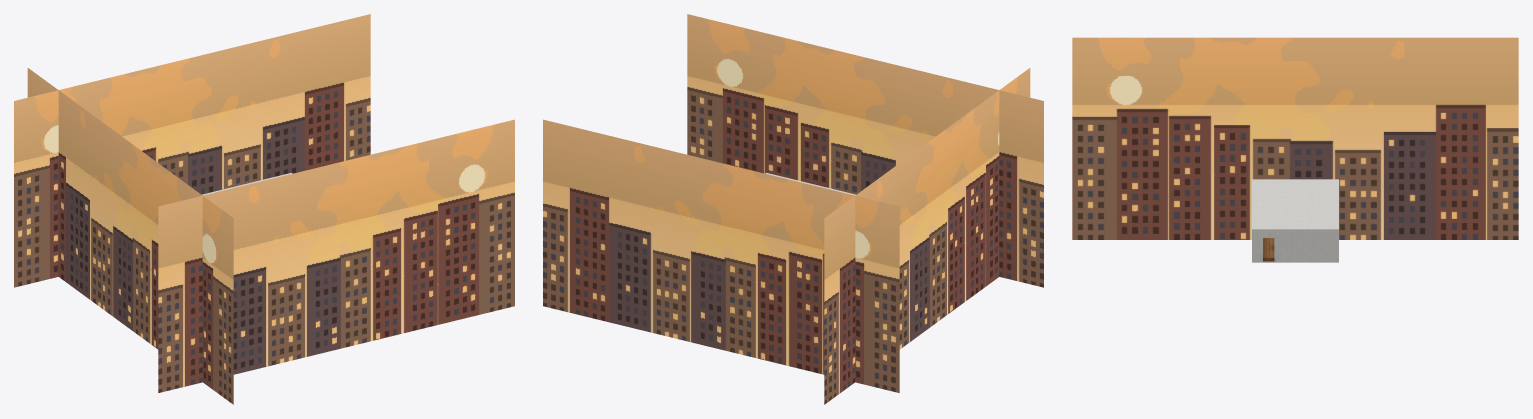
The model's file is apartment.glb.
The picture shows the model from 3 angles, left to right: view 1: azimuth 30°, elevation 25°; view 2: azimuth 150°, elevation 25°; view 3: azimuth 270°, elevation 25°; orthographic projection. The views are drawn at different scales.
Visible parts, largest first — view 1: view_0, view_2, view_1; view 2: view_2, view_0, view_1; view 3: view_1, shell.
Part boxes in pixels (x1,y1,x2,y2): view_0: (158, 119, 514, 392); view_2: (14, 14, 370, 287); view_1: (27, 68, 233, 404); view_2: (543, 119, 899, 392); view_0: (687, 14, 1043, 287); view_1: (824, 68, 1030, 404); view_1: (1072, 37, 1518, 239); shell: (1252, 179, 1338, 262).
Size of what is drawn, in the model's own units: 40 by 20 by 40.
16 materials, 16 textured.
